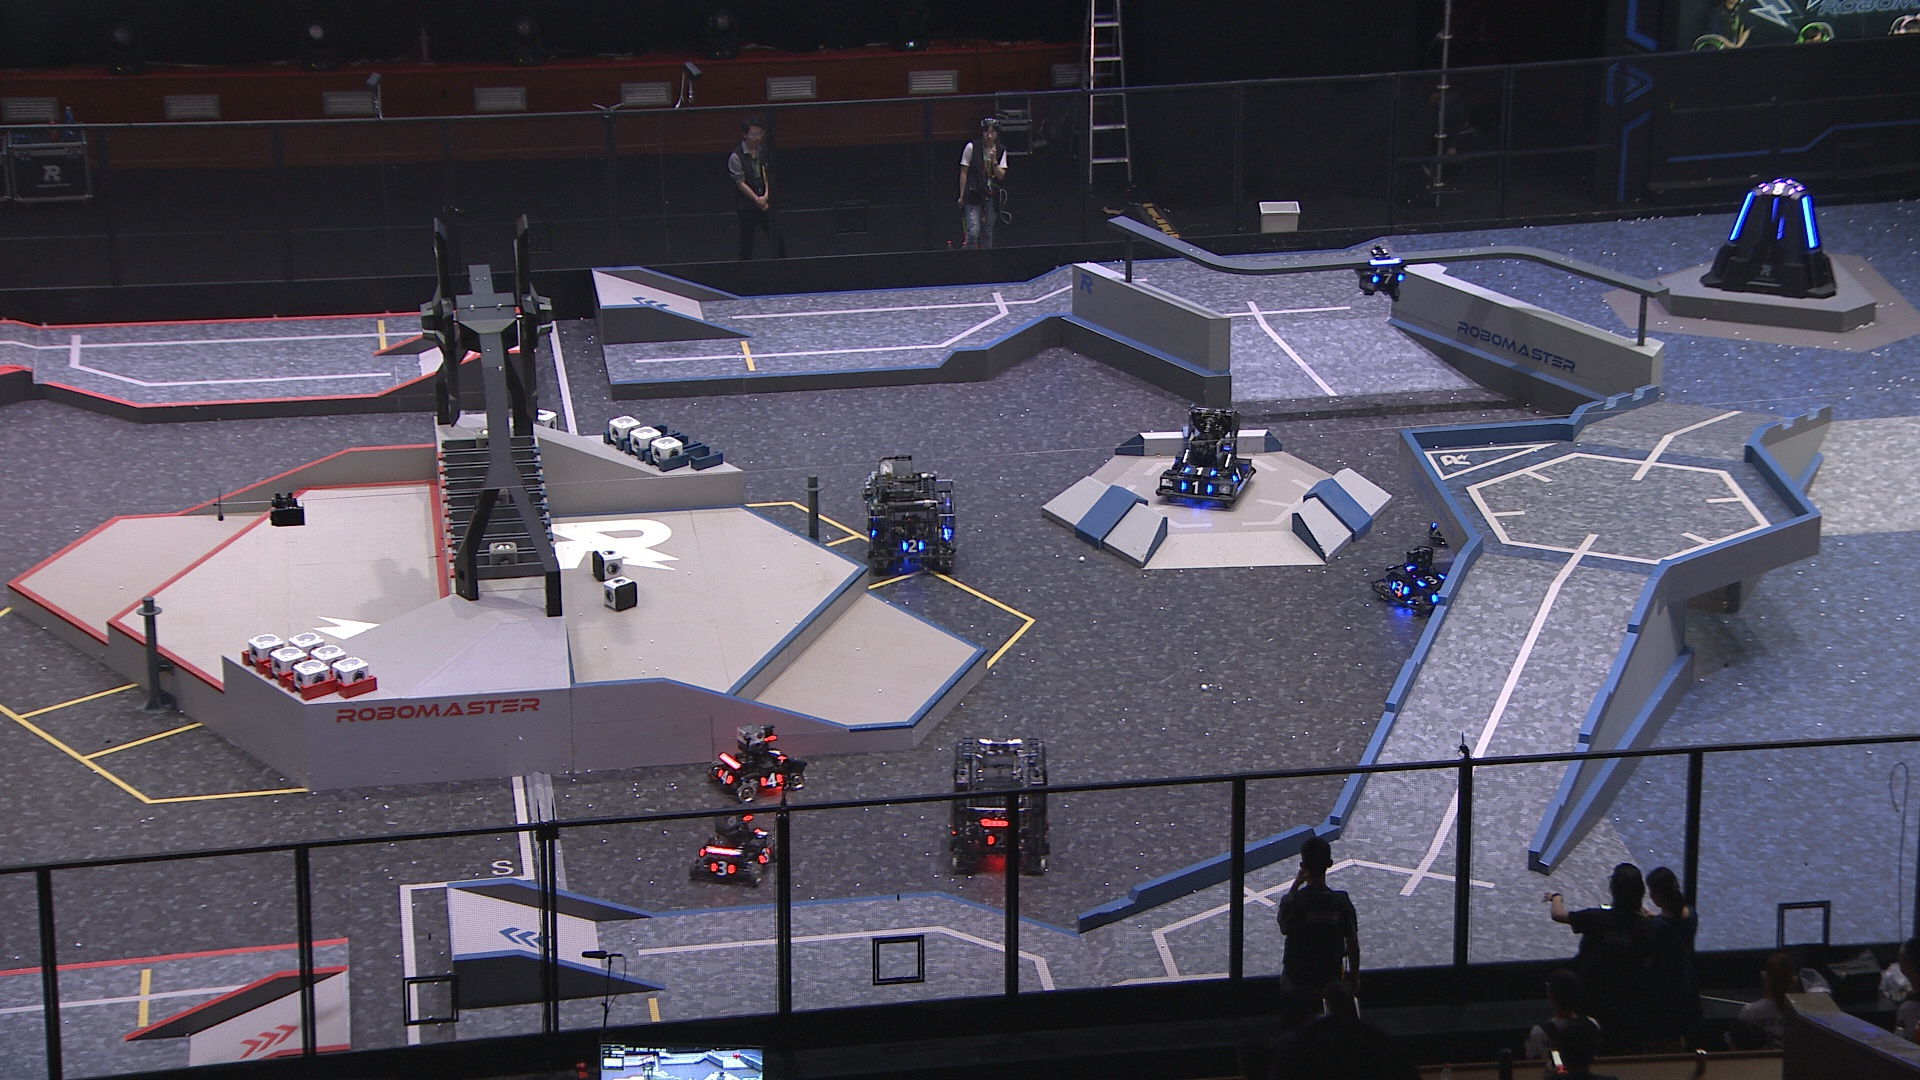armor: (1727, 190, 1753, 243), (1799, 196, 1818, 247), (707, 860, 737, 878), (1182, 465, 1220, 479), (1370, 272, 1404, 286), (1179, 480, 1212, 495), (757, 773, 787, 787), (1415, 572, 1447, 585), (984, 832, 1007, 849), (1774, 215, 1788, 243), (902, 541, 927, 556), (1389, 580, 1411, 597), (713, 769, 736, 785), (756, 847, 774, 864), (765, 746, 787, 760), (1233, 467, 1245, 483)
base: (1702, 174, 1840, 299)
car: (945, 733, 1054, 880), (861, 454, 959, 576), (1153, 404, 1259, 506), (684, 803, 785, 891), (704, 723, 806, 806), (1370, 542, 1465, 616)
ignore: (1760, 182, 1797, 195)
watcher: (1354, 243, 1408, 302)
